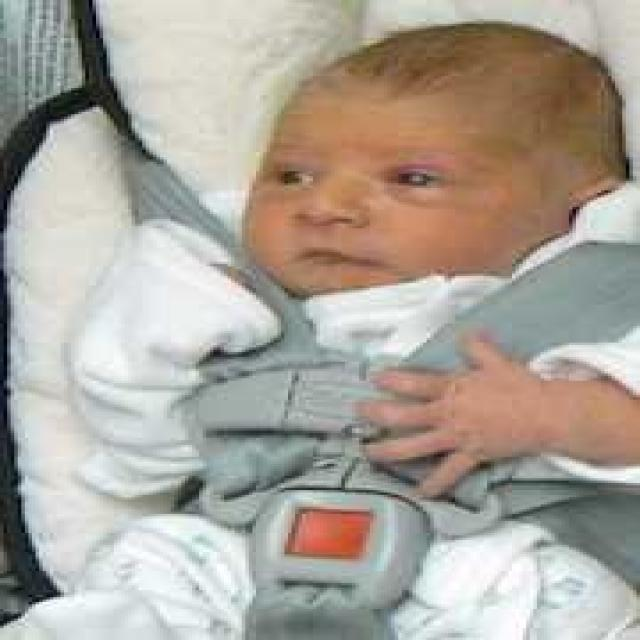seatbelt: (81, 110, 362, 390), (341, 240, 633, 433)
